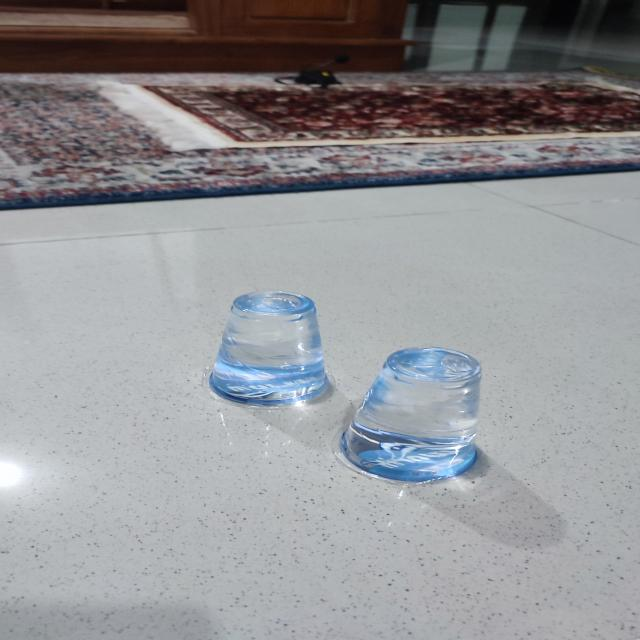air gelas: (335, 343, 485, 495), (200, 281, 335, 415)
